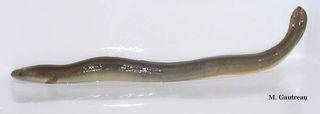Freshwater Eel: (11, 5, 310, 85)
